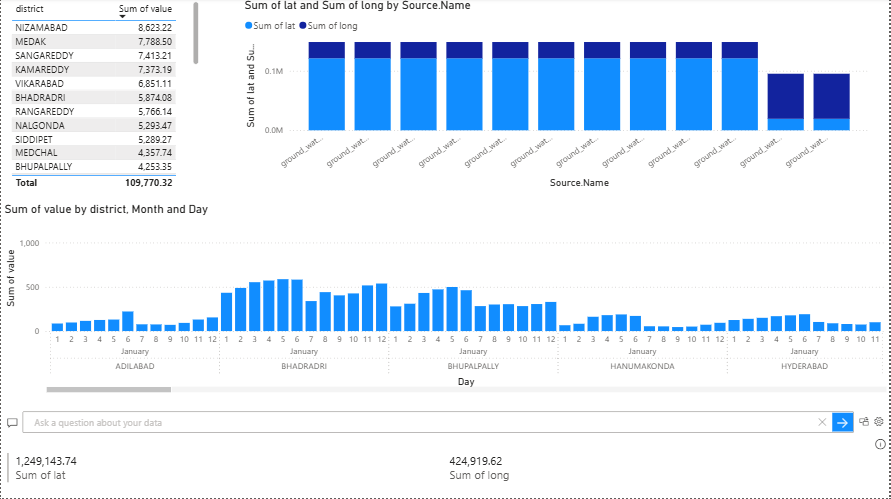

The page's visual inventory and layout, read from the dashboard file:
{"tool":"powerbi","page":{"name":"Page 1","canvas":[1280,720],"ordinal":0},"visuals":[{"type":"tableEx","fields":{"Values":["bi project.district","Sum(bi project.value)"]},"box":[10,0,280,280],"z":0},{"type":"columnChart","fields":{"Category":["bi project.Source.Name"],"Y":["Sum(bi project.lat)","Sum(bi project.long)"]},"box":[346,0,908.8,278.8],"z":1000},{"type":"clusteredColumnChart","fields":{"Category":["bi project.district","bi project.date.Variation.Date Hierarchy.Month","bi project.date.Variation.Date Hierarchy.Day"],"Y":["Sum(bi project.value)"]},"box":[0,294,1280,278.8],"z":2000},{"type":"qnaVisual","box":[0,570,1280,150],"z":3000}]}

Visuals, with their boxes on the page's 1280x720 design canvas (x1, y1, x2, y2). These are canvas units, not pixel positions in the 891x499 screenshot, which may show the page scaled, cropped or inside an application window:
tableEx - bi project.district x Sum(bi project.value): (10, 0, 290, 280)
columnChart - bi project.Source.Name x Sum(bi project.lat): (346, 0, 1255, 279)
clusteredColumnChart - bi project.district x bi project.date.Variation.Date Hierarchy.Month: (0, 294, 1280, 573)
qnaVisual: (0, 570, 1280, 720)
